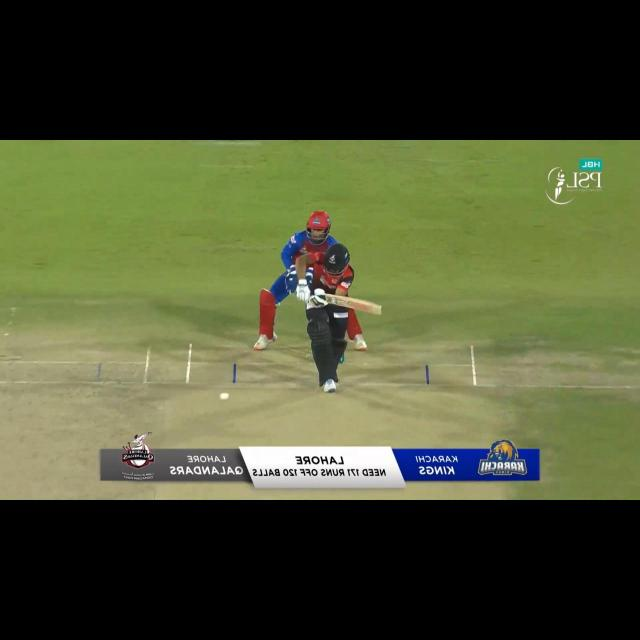bat: (324, 292, 383, 318)
toe: (373, 304, 383, 316)
